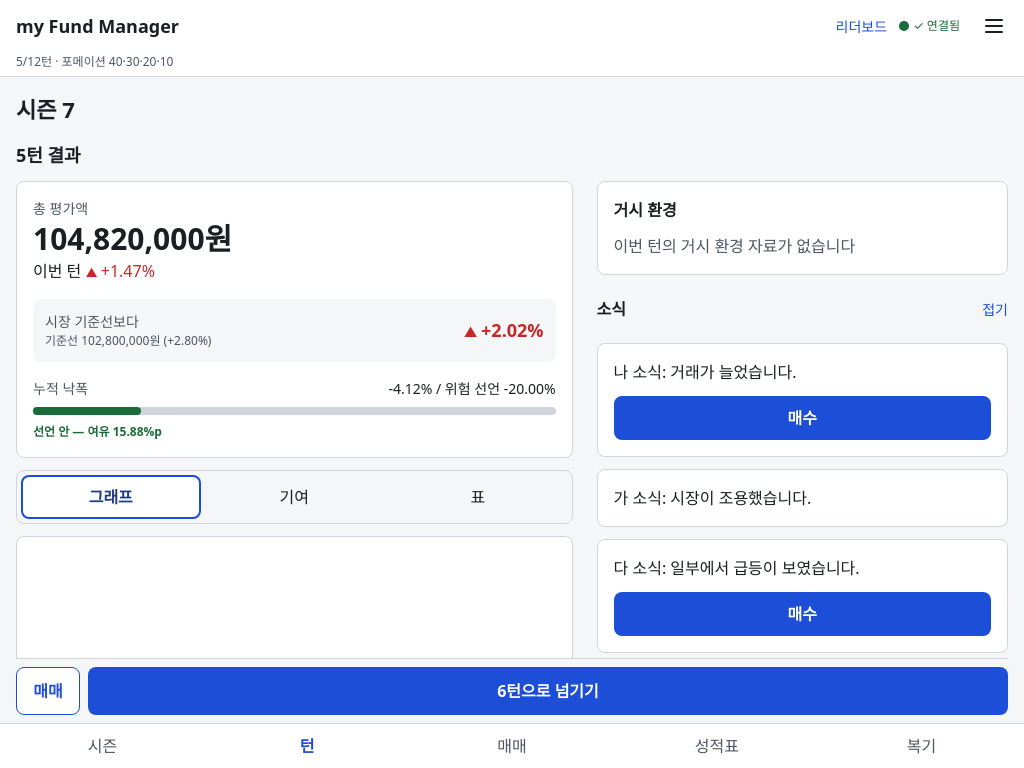
Scenario: feed on the now page › closes the sheet and notes a stale screen on TURN_MISMATCH
The image size is (1024, 768).
Step 1. Click the button with aria-label "종목 가 매수" → click(802, 614), box [614,592,991,636]
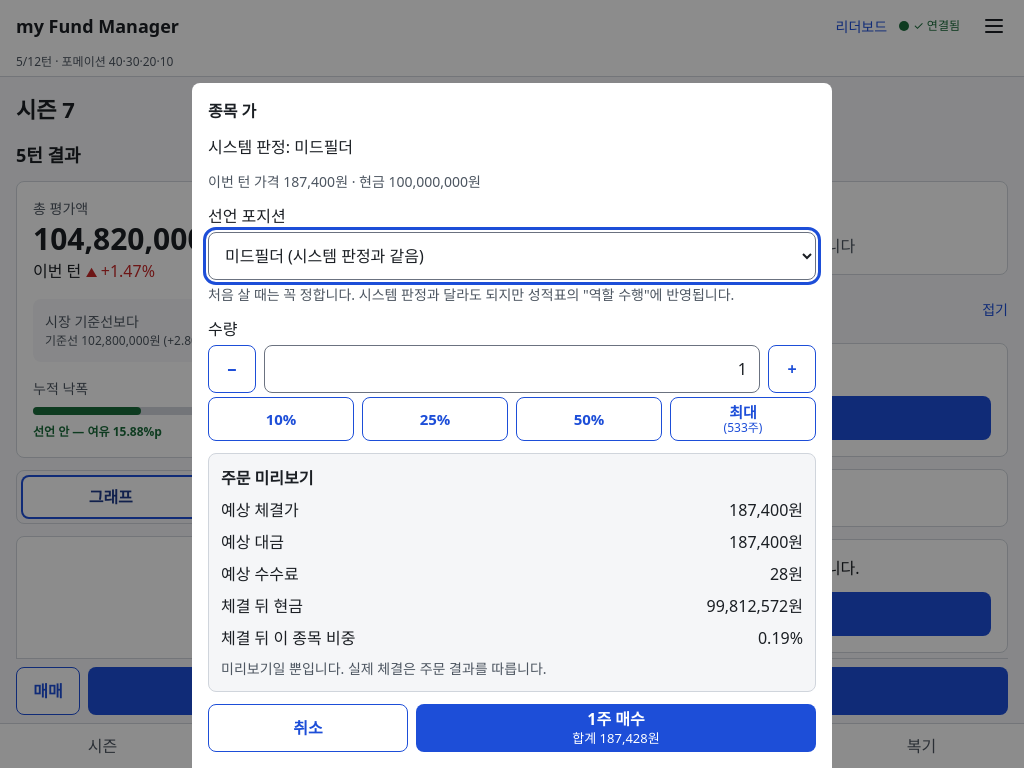
Step 2. Click the button "1주 매수 합계 187,428원" → click(616, 728), box [416,704,816,752]
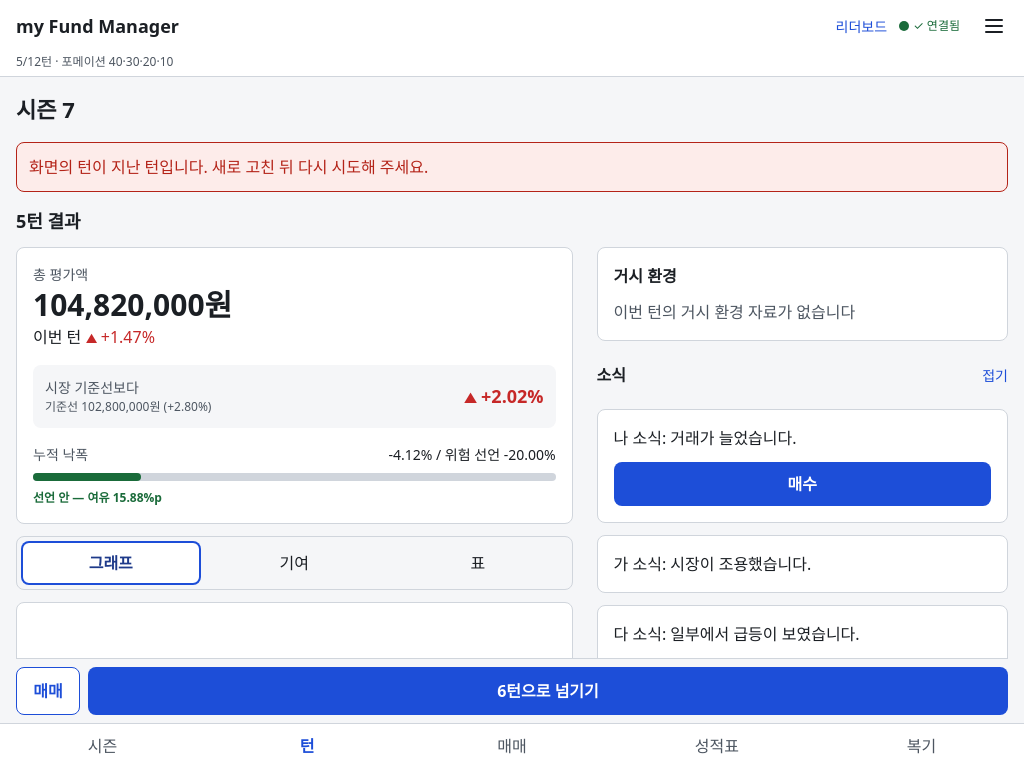
Check: the dialog is gone
Check: the message "화면의 턴이 지난 턴입니다. 새로 고친 뒤 다시 시도해 주세요." is shown, box [16,142,1008,192]
